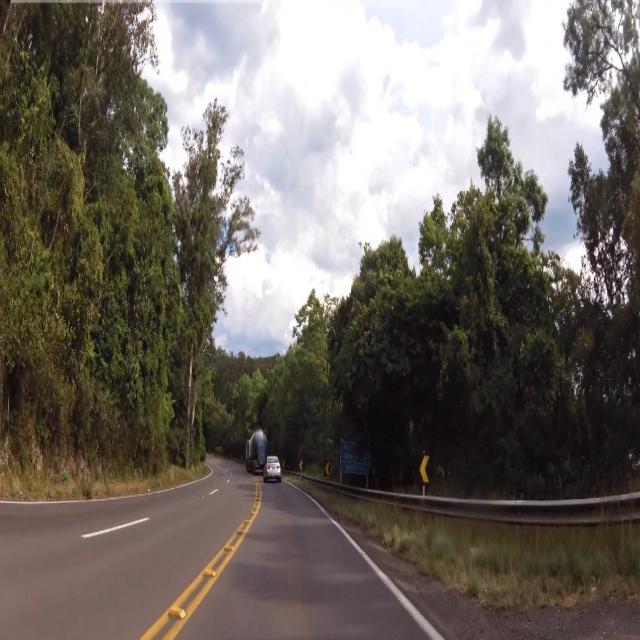Del: (419, 449, 432, 487)
